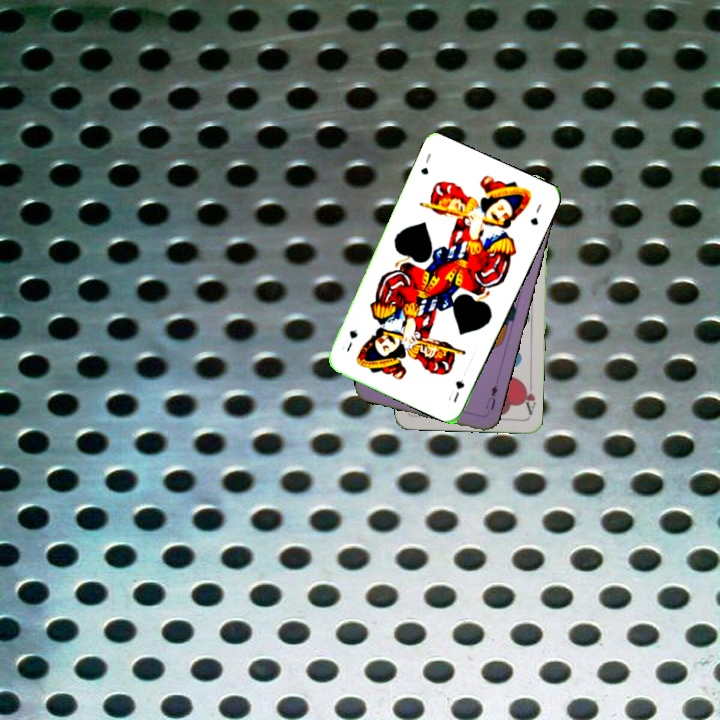EU: (482, 381, 500, 413)
GU: (444, 375, 467, 405), (416, 149, 433, 178)
HA: (519, 377, 538, 418)
